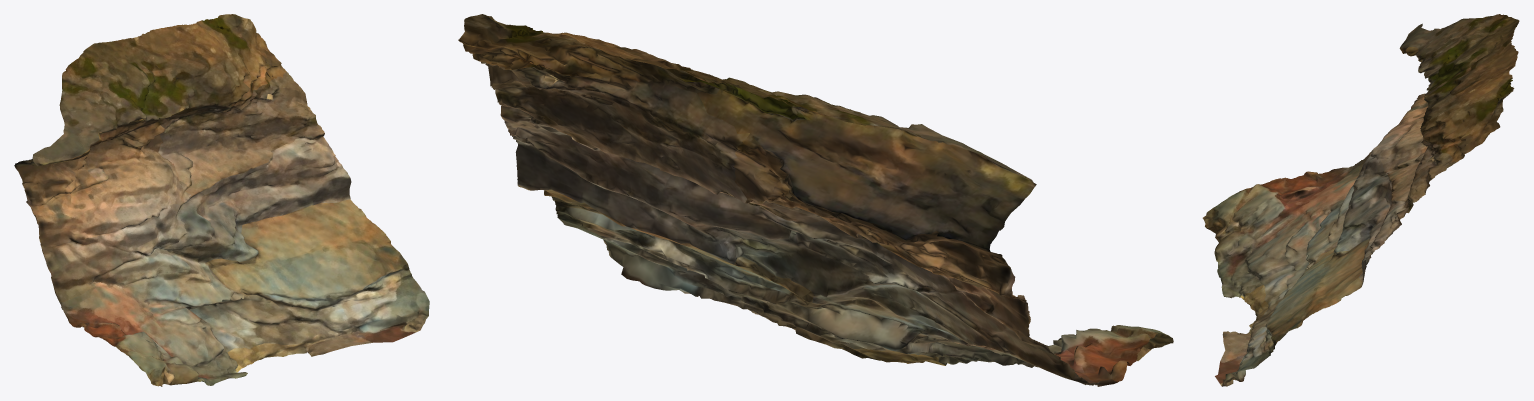
File: rock_face_01.gltf
3 renders of one model, left to right at view 1: azimuth 30°, elevation 25°; view 2: azimuth 150°, elevation 25°; view 3: azimuth 270°, elevation 25°, orthographic. The views are drawn at different scales.
Parts seen in each view (by area): view 1: rock_face_01; view 2: rock_face_01; view 3: rock_face_01.
Boxes of the visible parts, x1=… form: rock_face_01: x1=14, y1=14, x2=429, y2=386; rock_face_01: x1=458, y1=14, x2=1173, y2=386; rock_face_01: x1=1202, y1=14, x2=1519, y2=386.
Bounding box in the file's own units: 4.95 × 3.56 × 3.83.
1 material, 1 textured.
